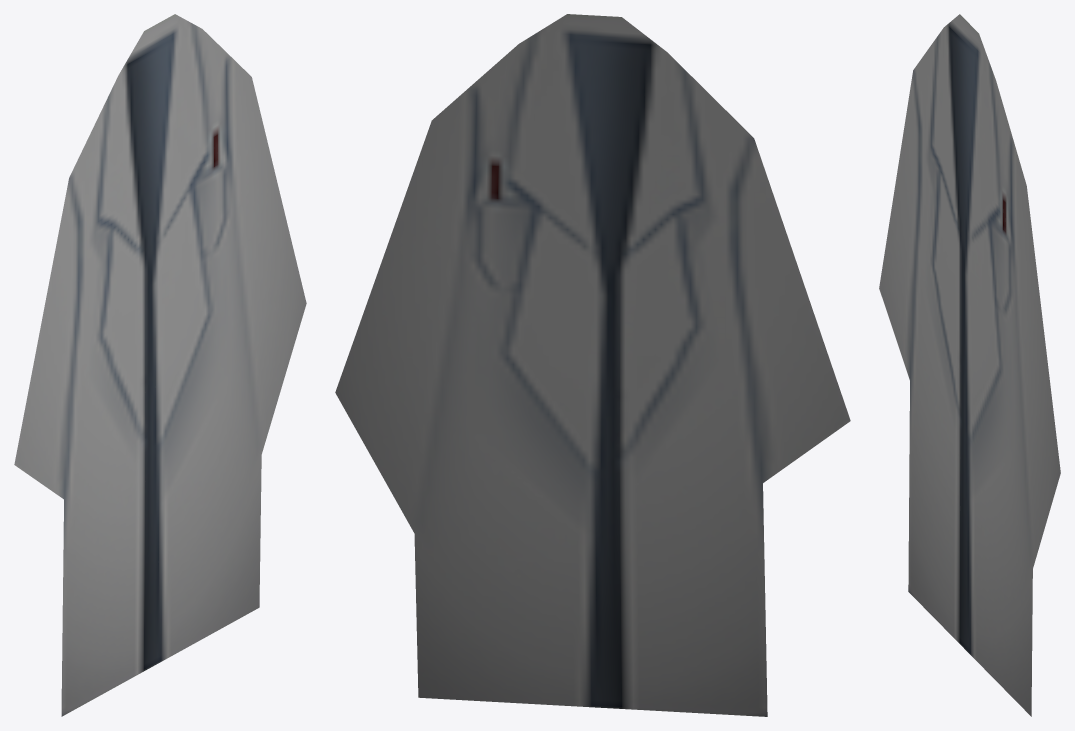
The model's file is Tx_prop_doctor coat_14.fbx.
3 views of the same model, side by side, from view 1: azimuth 30°, elevation 25°; view 2: azimuth 150°, elevation 25°; view 3: azimuth 270°, elevation 25° (orthographic). The views are drawn at different scales.
Visible parts, largest first — view 1: Tx_prop_doctor_coat_11; view 2: Tx_prop_doctor_coat_11; view 3: Tx_prop_doctor_coat_11.
Part boxes in pixels (left/top/right/bottom): Tx_prop_doctor_coat_11: left=14, top=14, right=306, bottom=716; Tx_prop_doctor_coat_11: left=335, top=14, right=850, bottom=716; Tx_prop_doctor_coat_11: left=879, top=14, right=1060, bottom=716.
Bounding box in the file's own units: 2.69 × 4.28 × 1.12.
